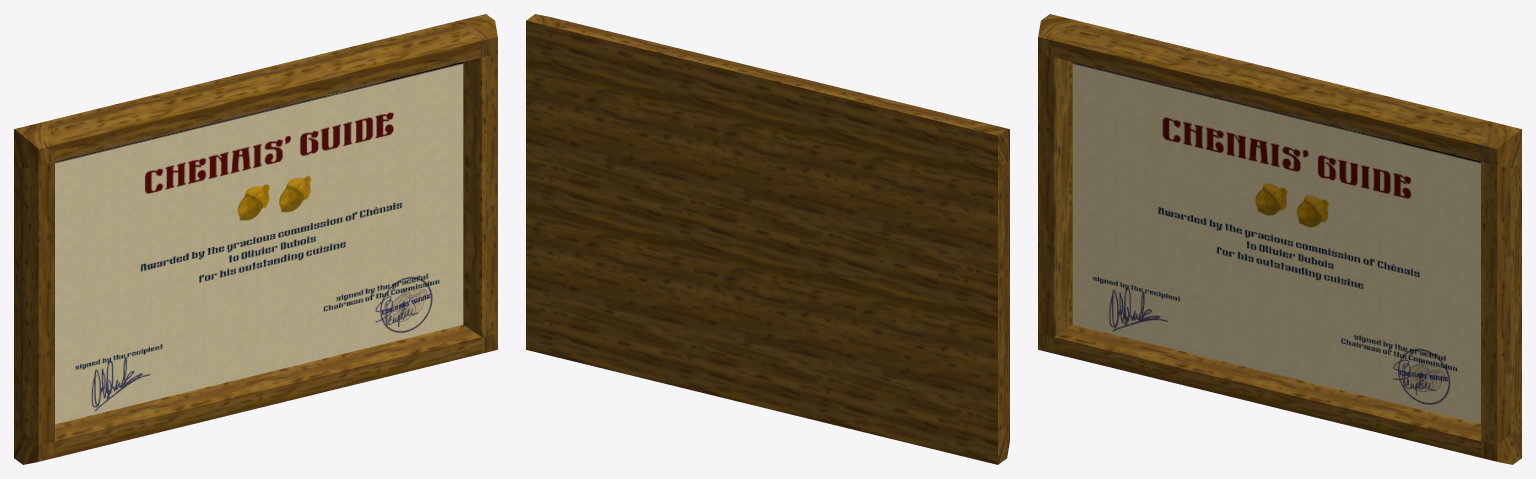
The model's file is Diplome.glb.
3 renders of one model, left to right at view 1: azimuth 30°, elevation 25°; view 2: azimuth 150°, elevation 25°; view 3: azimuth 330°, elevation 25°, orthographic.
Parts seen in each view (by area): view 1: Diplome; view 2: Diplome; view 3: Diplome.
Boxes of the visible parts, x1,y1,x2,y2 form: Diplome: [14, 14, 497, 464]; Diplome: [526, 14, 1009, 464]; Diplome: [1038, 14, 1521, 464].
Size of the model in its own units: 3 by 2 by 0.2.
1 material, 1 textured.
